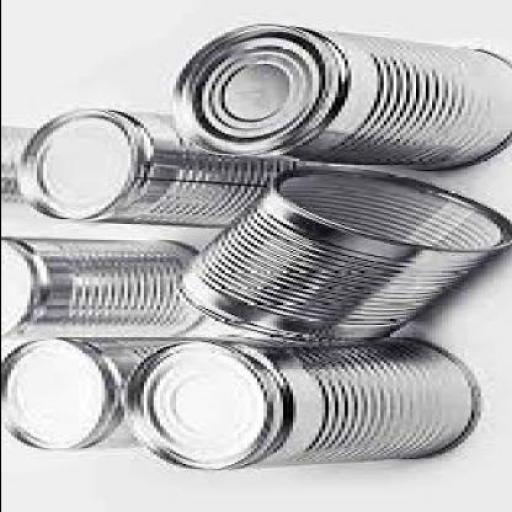metal: (172, 161, 509, 341), (169, 21, 508, 170), (117, 336, 476, 470), (10, 109, 317, 227), (2, 236, 204, 340), (1, 335, 169, 454)
